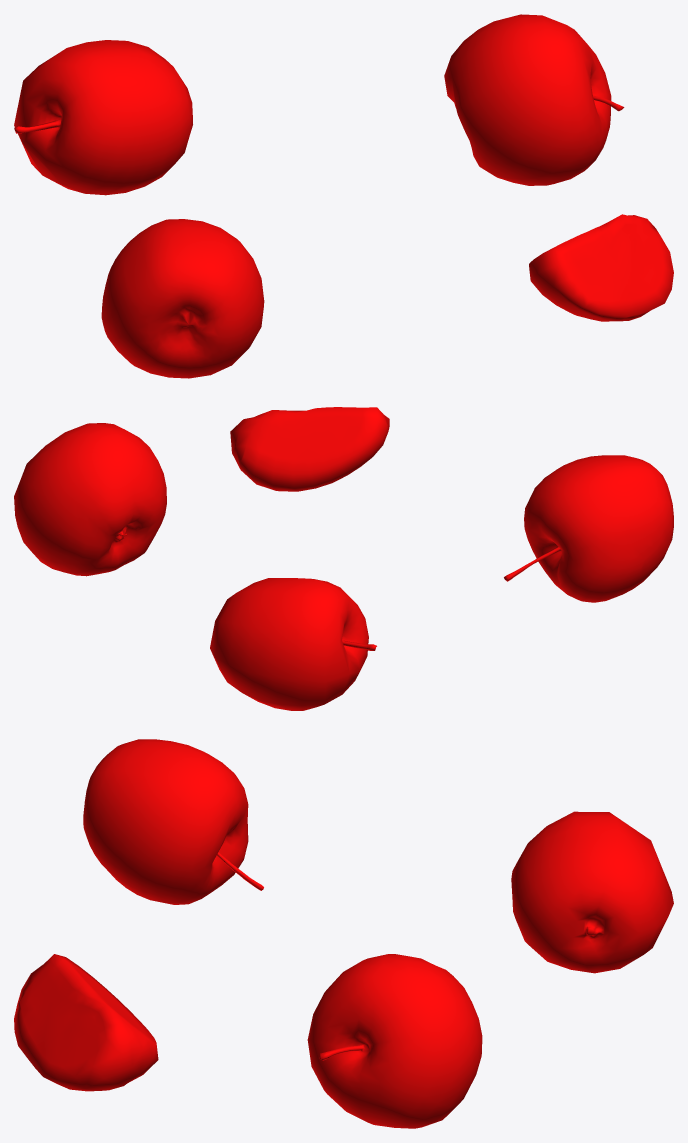
File: apples.fbx
3 views of the same model, one above another, from view 1: azimuth 30°, elevation 25°; view 2: azimuth 150°, elevation 25°; view 3: azimuth 270°, elevation 25° (orthographic). The views are drawn at different scales.
Visible parts, largest first — view 1: apple3, apple1, apple2, apple4; view 2: apple3, apple2, apple1, apple4; view 3: apple3, apple2, apple1, apple4.
Boxes of the visible parts, x1,y1,x2,y2 form: apple3: (444, 14, 624, 185); apple1: (14, 40, 192, 195); apple2: (101, 219, 264, 378); apple4: (529, 214, 673, 321); apple3: (14, 423, 166, 576); apple2: (504, 455, 673, 602); apple1: (210, 578, 376, 710); apple4: (230, 407, 389, 491); apple3: (307, 954, 482, 1128); apple2: (83, 739, 263, 904); apple1: (511, 811, 673, 973); apple4: (14, 954, 158, 1091).
Size of the model in its own units: 0.251 by 0.0617 by 0.2386.
